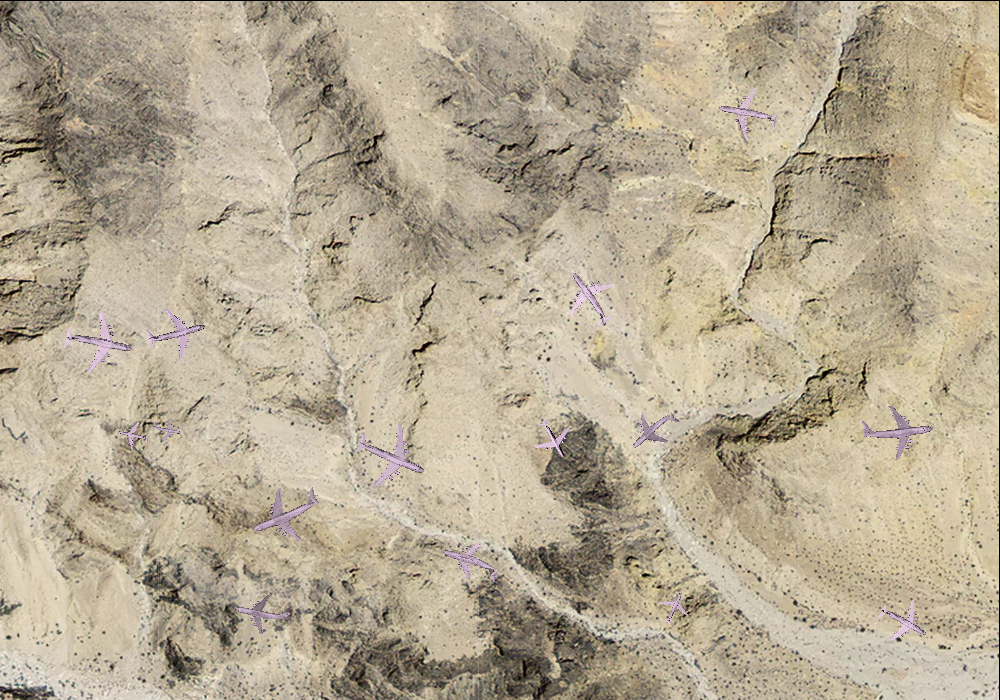plane: (343, 410, 438, 502), (238, 468, 331, 558), (548, 257, 630, 339), (57, 304, 138, 382), (858, 393, 936, 466), (618, 396, 690, 466), (139, 297, 211, 367), (869, 588, 938, 656), (714, 80, 783, 147), (435, 531, 506, 596), (230, 581, 295, 642), (525, 411, 580, 467), (652, 585, 696, 631), (115, 418, 152, 453), (149, 413, 183, 445)
